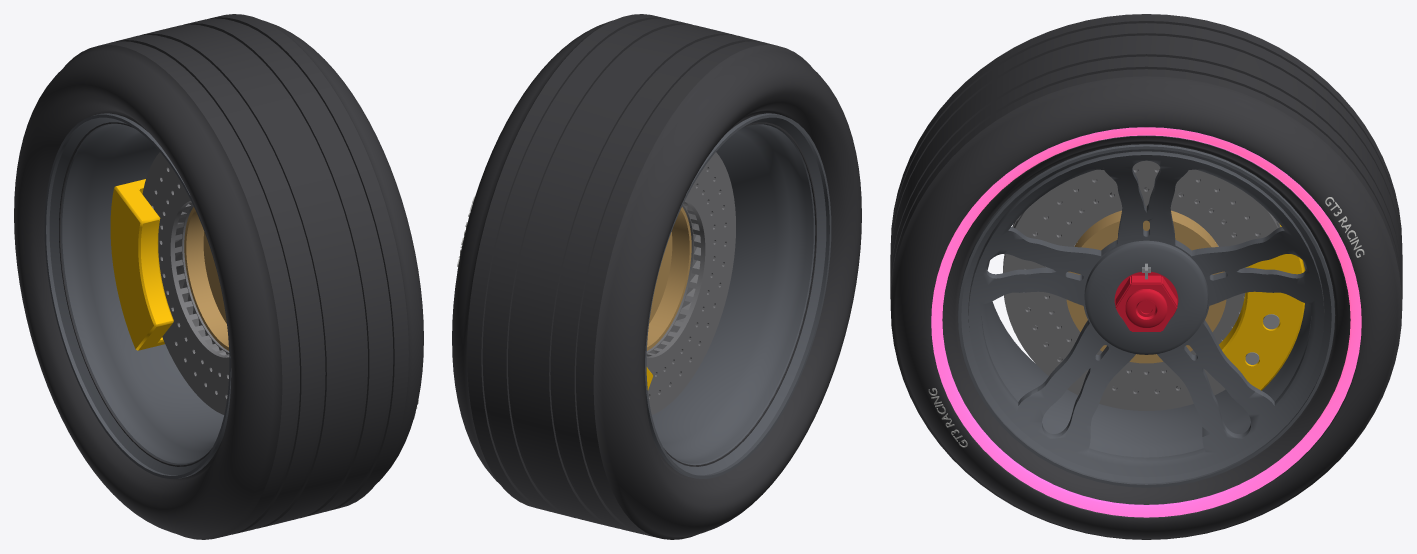
Rendered from gt3_wheel_master.glb.
The picture shows the model from 3 angles, left to right: view 1: azimuth 30°, elevation 25°; view 2: azimuth 150°, elevation 25°; view 3: azimuth 270°, elevation 25°; orthographic projection.
Parts seen in each view (by area): view 1: GT3_TireRubber, GT3_AlloyRim, GT3_BrakeDisc, GT3_BrakeCaliper; view 2: GT3_TireRubber, GT3_AlloyRim, GT3_BrakeDisc; view 3: GT3_TireRubber, GT3_AlloyRim, GT3_BrakeDisc, GT3_SidewallStripe, GT3_BrakeCaliper, GT3_CenterNut.
Boxes of the visible parts, <box> form: GT3_TireRubber: <box>14,14,423,539</box>; GT3_AlloyRim: <box>44,113,231,478</box>; GT3_BrakeDisc: <box>142,152,229,414</box>; GT3_BrakeCaliper: <box>110,179,173,350</box>; GT3_TireRubber: <box>452,14,861,539</box>; GT3_AlloyRim: <box>644,113,831,478</box>; GT3_BrakeDisc: <box>646,152,735,414</box>; GT3_TireRubber: <box>890,14,1402,539</box>; GT3_AlloyRim: <box>957,144,1335,487</box>; GT3_BrakeDisc: <box>1003,160,1280,410</box>; GT3_SidewallStripe: <box>931,127,1361,517</box>; GT3_BrakeCaliper: <box>1219,225,1305,390</box>; GT3_CenterNut: <box>1114,263,1178,331</box>.
Bounding box in the file's own units: 0.2815 × 0.66 × 0.66.
